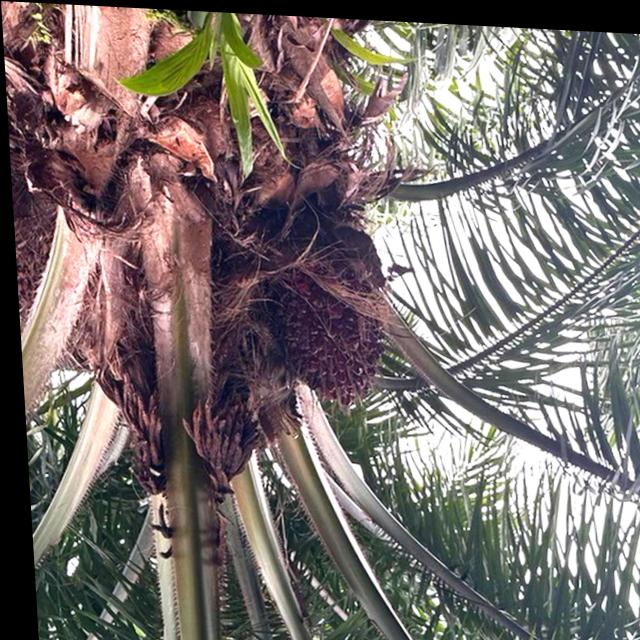ripe: (258, 243, 404, 427)
